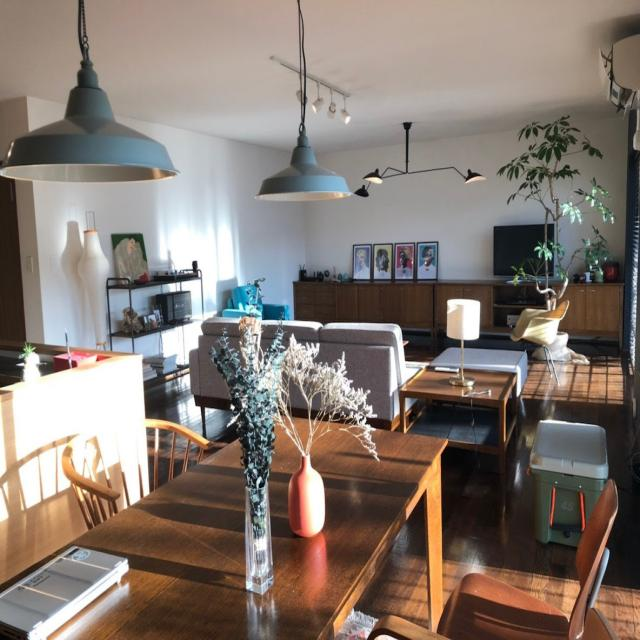vintage chair: (371, 477, 640, 640), (65, 418, 218, 486)
vintage desk: (22, 408, 448, 640), (400, 334, 531, 444)
vintage shelf: (302, 280, 626, 334)
vintage sofa: (193, 311, 410, 426)
